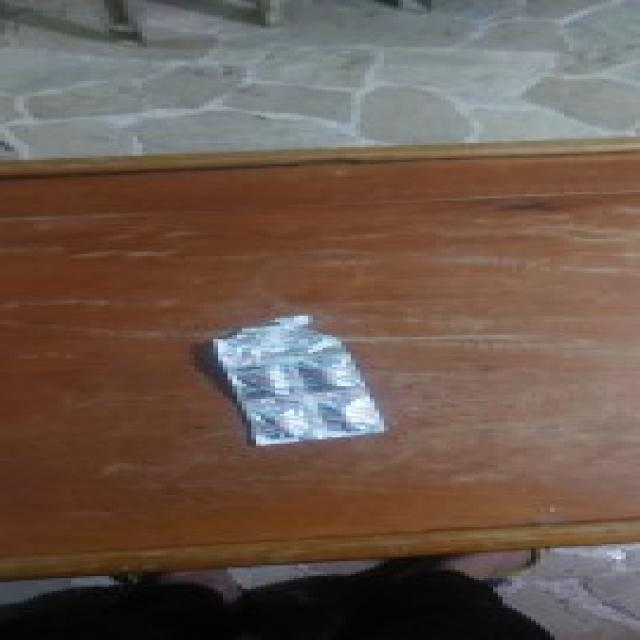Cacat: (212, 307, 382, 443)
Kemasan: (223, 312, 353, 346)
